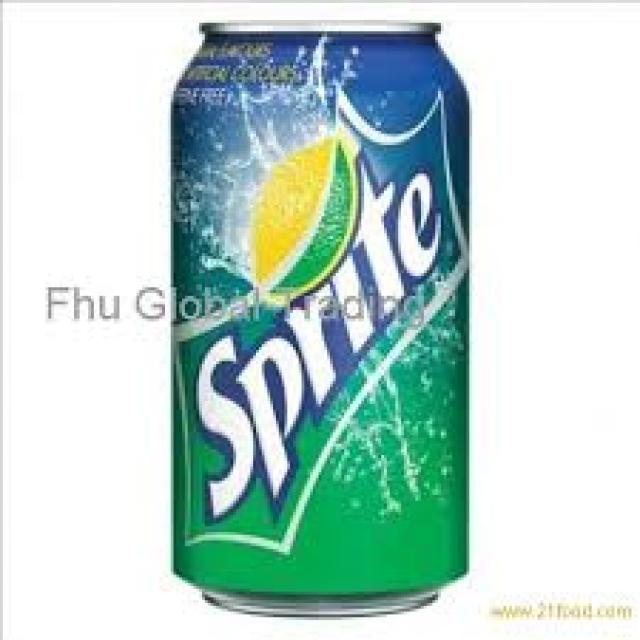aluminum_can: (174, 26, 469, 616)
